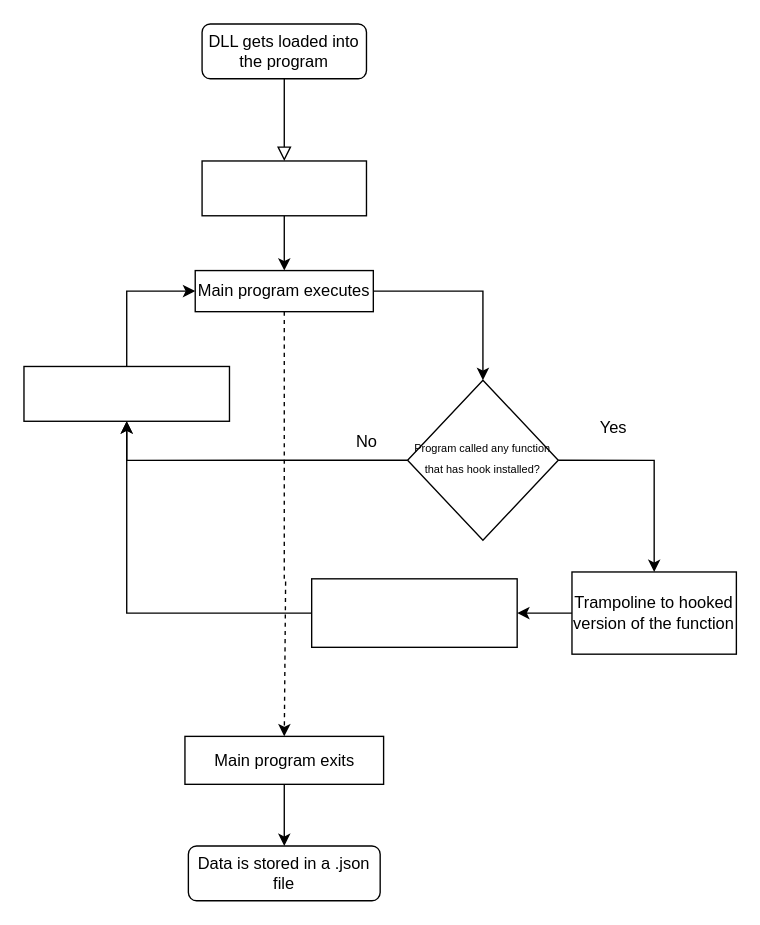
This 760x925 diagram has some shape labels left out. The centre of each missing label's shape, as x and y in pixels:
"Execute hooked function and collect data" goes at point (413, 612).
"Hooks are installed for specified functions." goes at point (283, 188).
"Original function is executed" goes at point (126, 393).
